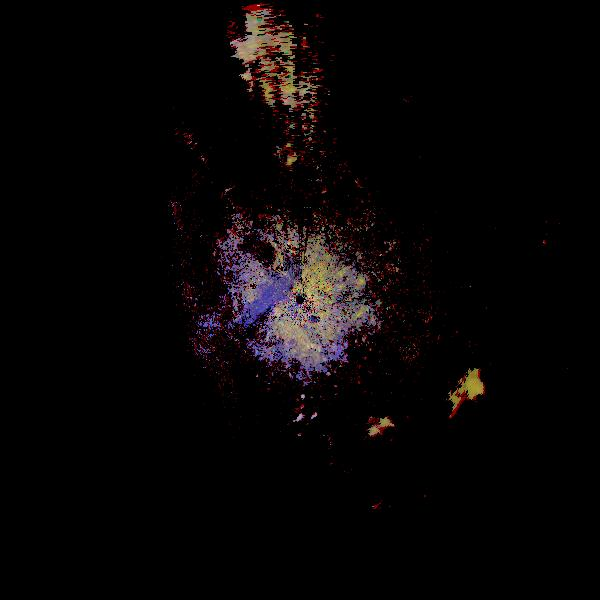roost: (327, 363, 540, 576), (418, 314, 600, 542)
